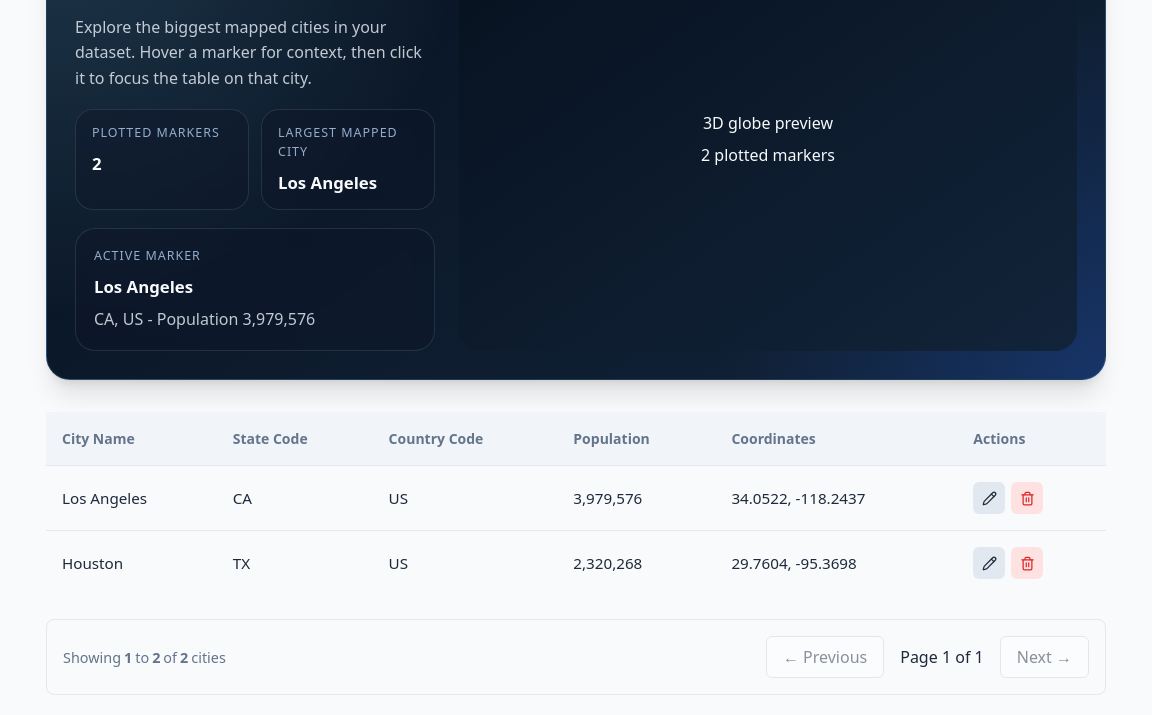
Scenario: shows delete error and closes the modal when delete fails
(page scrolled)
Click the button named "Delete city" next to "34.0522, -118.2437": click(1027, 498) x1=1011 y1=482 x2=1043 y2=514
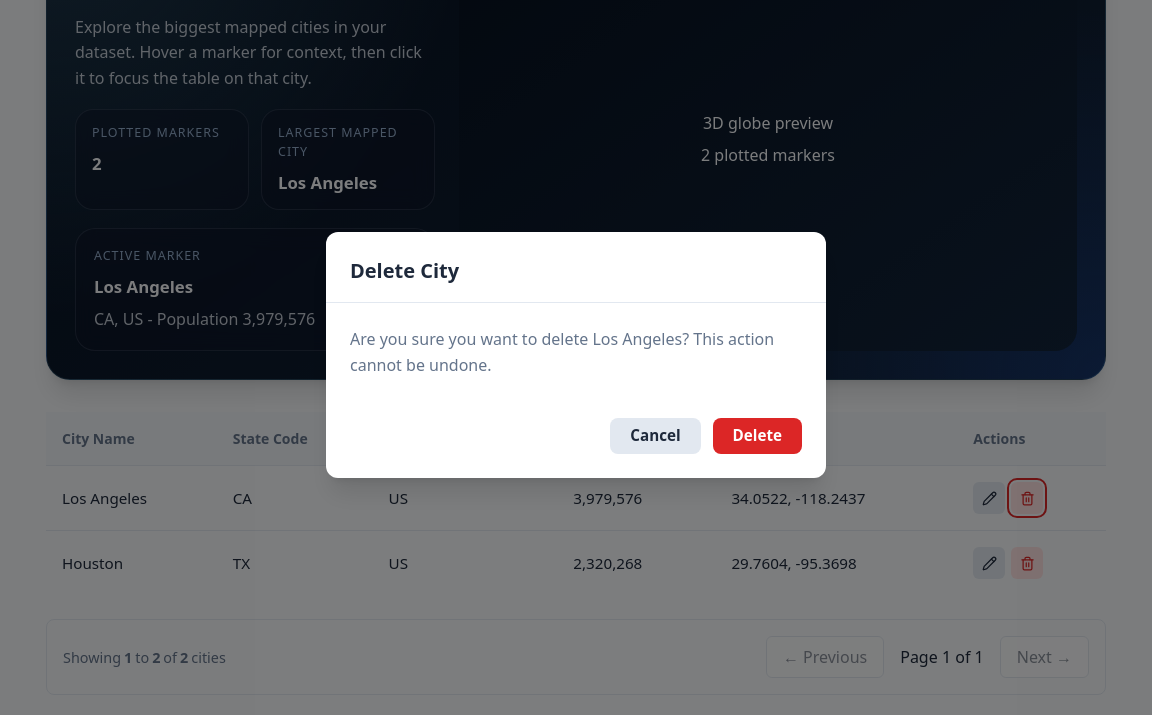
Click the button "Delete": click(757, 436) x1=713 y1=418 x2=802 y2=454
(page scrolled)
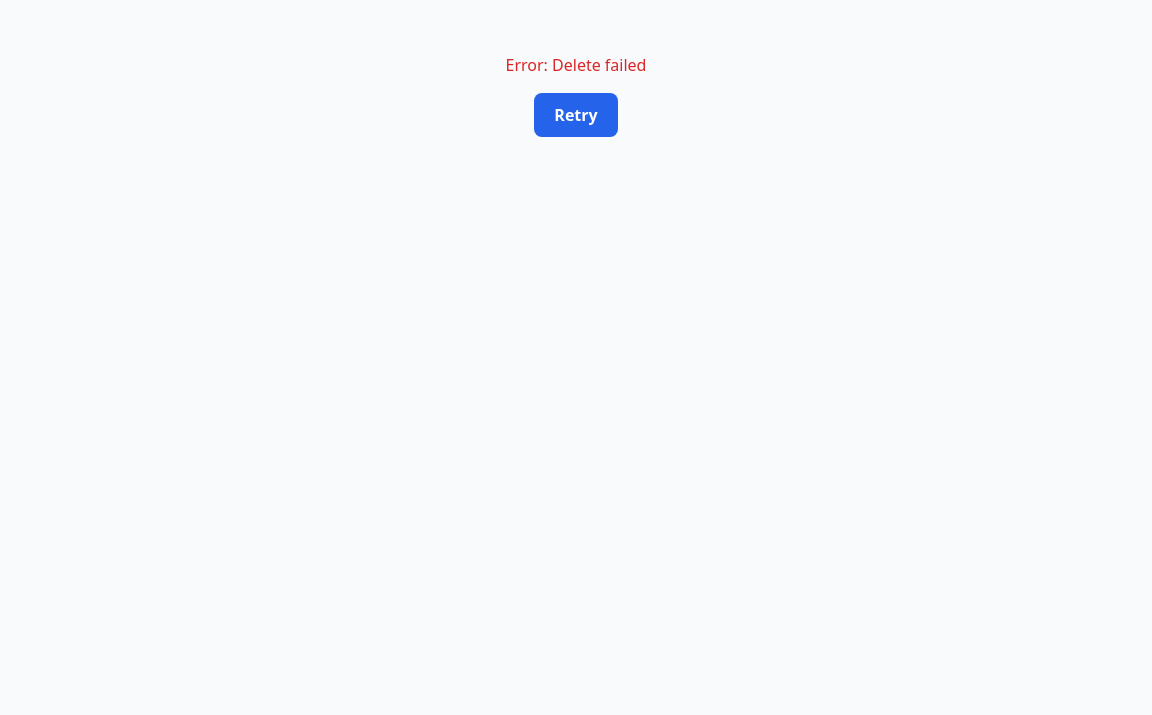
Now the text "Error: Delete failed" is shown, box x1=506 y1=53 x2=646 y2=77
Now the text "Are you sure you want to delete Los Angeles" is gone
